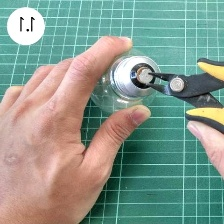light_bulb: (75, 40, 162, 120)
